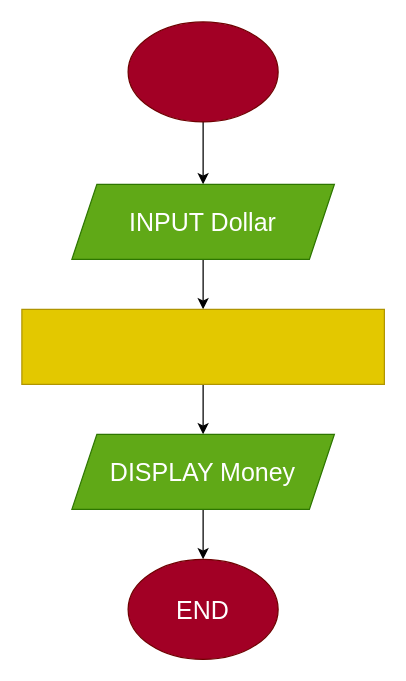
Image size: 406x681. Some labels were removed from this diagram. Here are the shapes that lost their labels. From the top down, the box of each, then its label:
(127, 21, 278, 122): START
(21, 308, 384, 384): Money = Dollar * 23000
